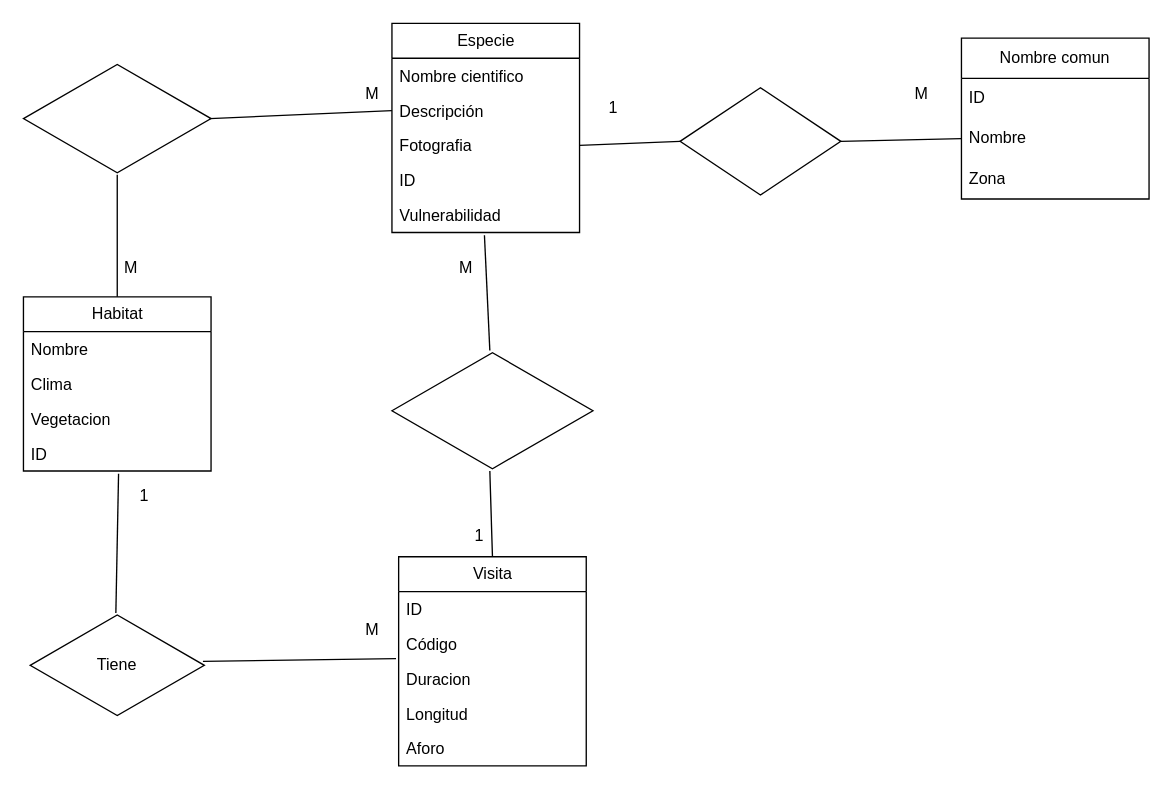
Some shapes in this 1173 by 793 pixel diagram are drawn without their labels. Here are the shapes that lost their labels. From the top down, the centre of each, then its label:
At [116,118]: "Pertenece".
At [760,140]: "Designa".
At [492,410]: "Corresponde".
